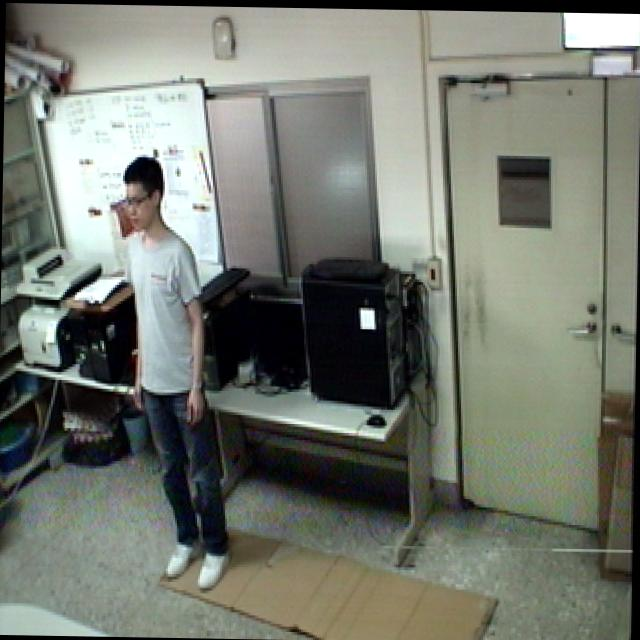stand: (108, 146, 245, 593)
